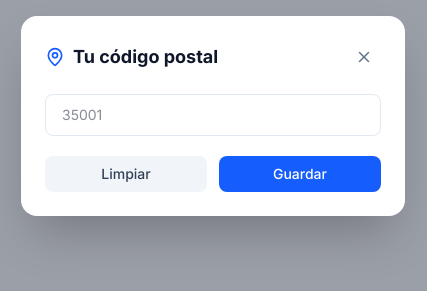
Scenario: LocationSelectorModal › should reject invalid postal code 00000 and show an error message
Type "00000" into the field with placeholder "35001". click: (213,115)
box: left=45, top=94, right=381, bottom=136
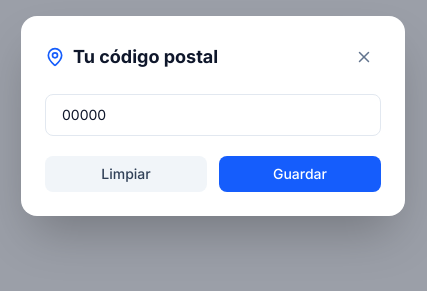
Click the button "Guardar". click: (300,174)
box: left=219, top=156, right=381, bottom=192
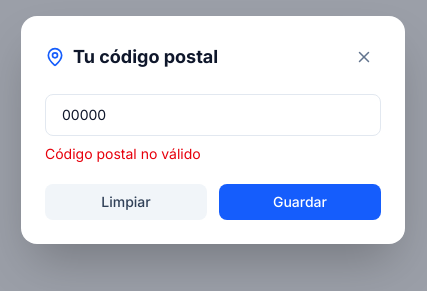
Check: the text "Código postal no válido" is shown, box left=45, top=145, right=201, bottom=162
